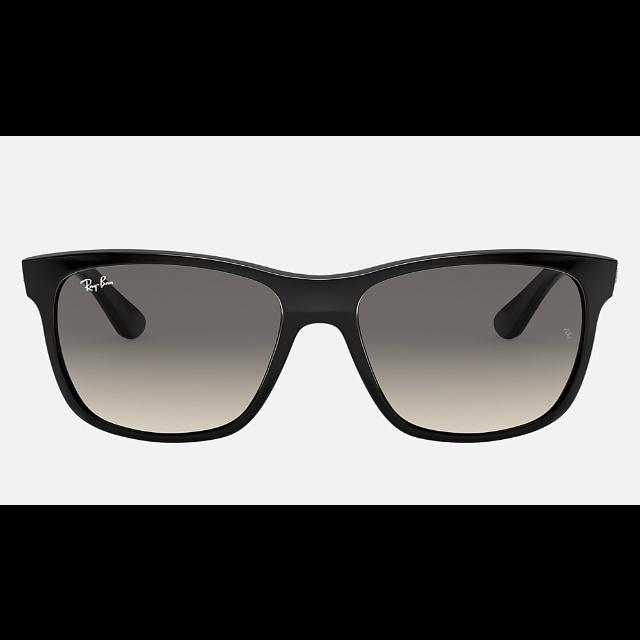Sunglasses: (22, 245, 620, 443)
